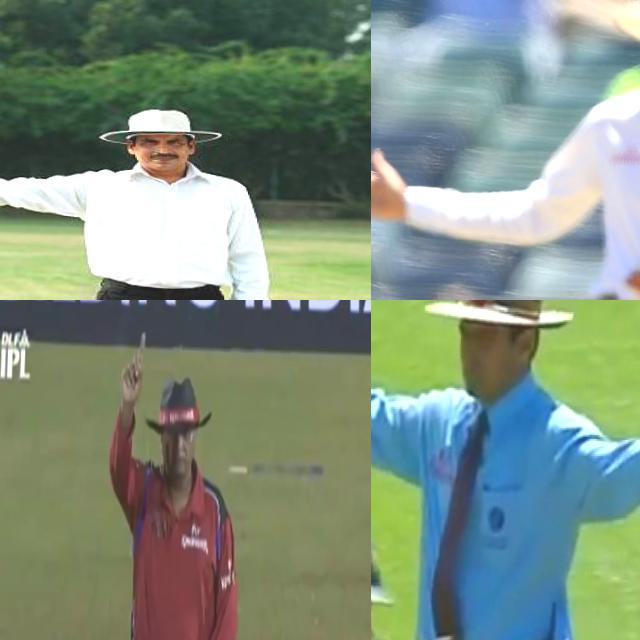No_Ball: (371, 0, 640, 300), (0, 93, 275, 300)
Out: (93, 318, 250, 640)
Wide: (371, 300, 640, 640)
